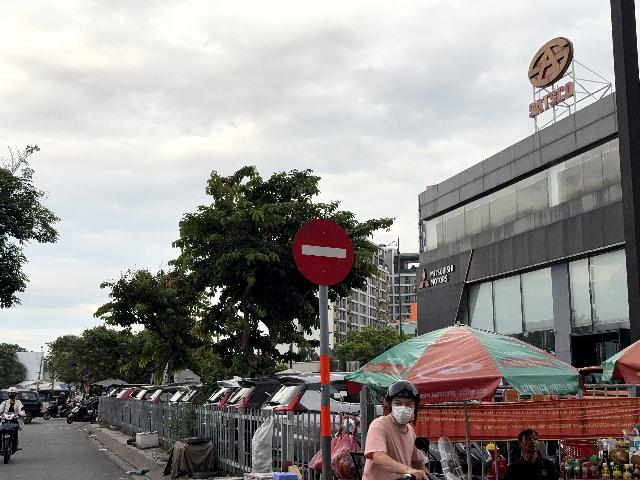cam-di-nguoc-chieu: (292, 219, 354, 286)
